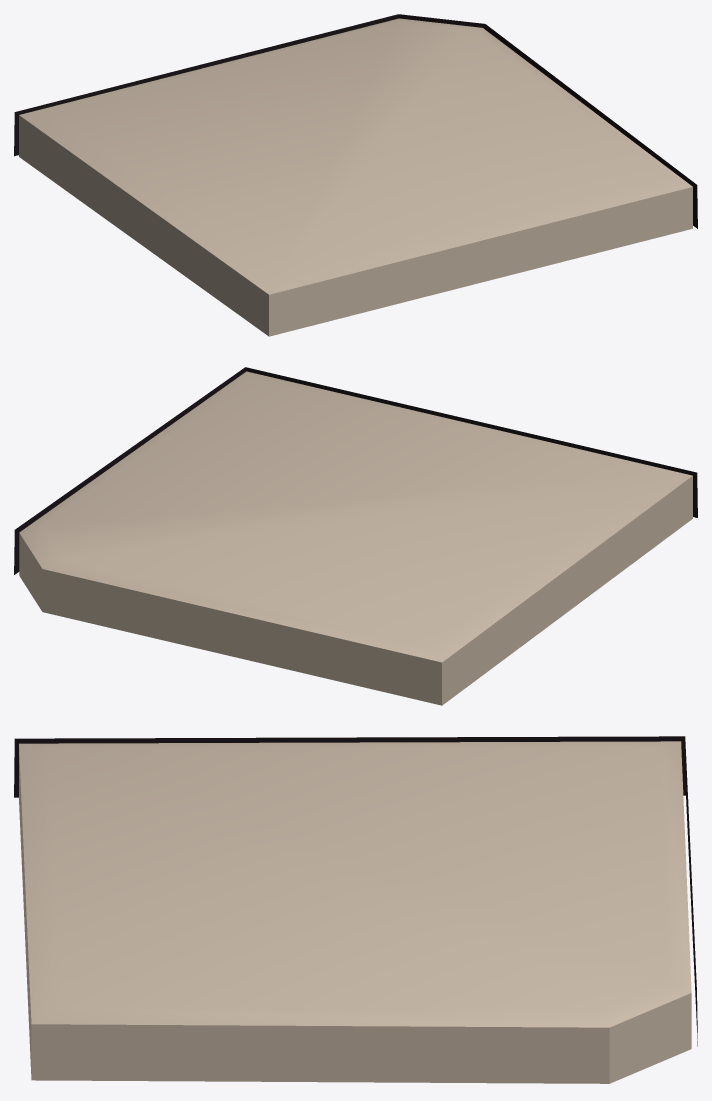
The model's file is SM_RoadTile_01.fbx.
The picture shows the model from 3 angles, top to bottom: view 1: azimuth 30°, elevation 25°; view 2: azimuth 150°, elevation 25°; view 3: azimuth 270°, elevation 25°; orthographic projection. The views are drawn at different scales.
Visible parts, largest first — view 1: SM_RoadTile_01; view 2: SM_RoadTile_01; view 3: SM_RoadTile_01.
Boxes of the visible parts, left/top/right/bottom form: SM_RoadTile_01: left=14, top=14, right=697, bottom=336; SM_RoadTile_01: left=14, top=367, right=697, bottom=705; SM_RoadTile_01: left=14, top=736, right=697, bottom=1083.
Bounding box in the file's own units: 0.9994 × 0.1119 × 0.9926.
